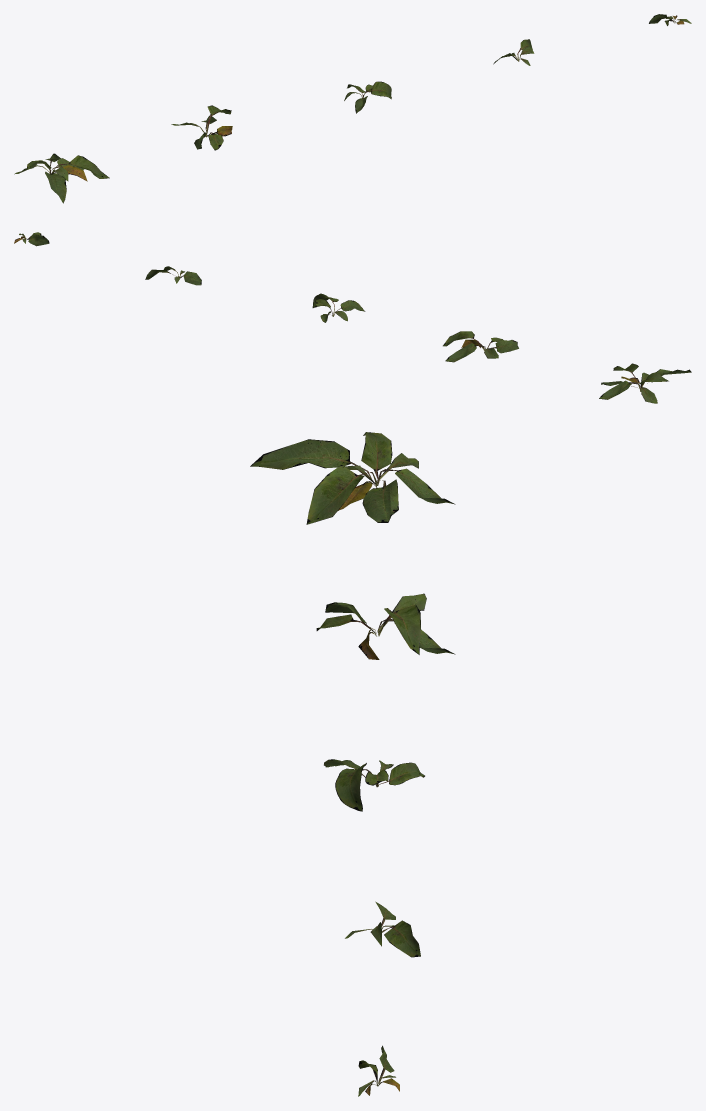
The model's file is weed_plant_02.glb.
The picture shows the model from 3 angles, top to bottom: view 1: azimuth 30°, elevation 25°; view 2: azimuth 150°, elevation 25°; view 3: azimuth 270°, elevation 25°; orthographic projection. The views are drawn at different scales.
Parts seen in each view (by area): view 1: weed_plant_02_a_LOD0, weed_plant_02_c_LOD0; view 2: weed_plant_02_a_LOD0, weed_plant_02_c_LOD0; view 3: weed_plant_02_a_LOD0, weed_plant_02_c_LOD0.
Boxes of the visible parts, box(x1,y1,x2,y2) form: weed_plant_02_a_LOD0: box(14, 14, 691, 203); weed_plant_02_c_LOD0: box(344, 81, 391, 113); weed_plant_02_a_LOD0: box(14, 232, 691, 403); weed_plant_02_c_LOD0: box(312, 293, 365, 322); weed_plant_02_a_LOD0: box(250, 432, 455, 1096); weed_plant_02_c_LOD0: box(324, 759, 424, 811).
Size of the model in its own units: 2.13 by 0.0744 by 0.2909.
1 material, 1 textured.
